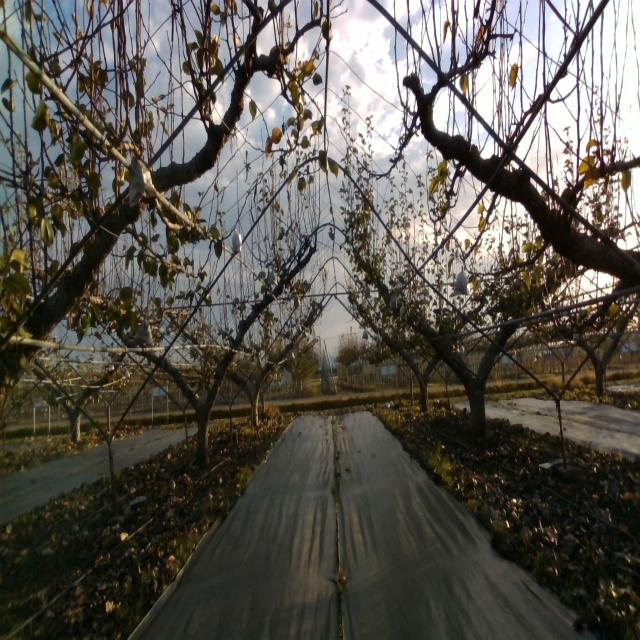pearbags: (128, 156, 158, 208), (452, 265, 470, 297), (232, 228, 243, 253), (268, 267, 278, 287)
